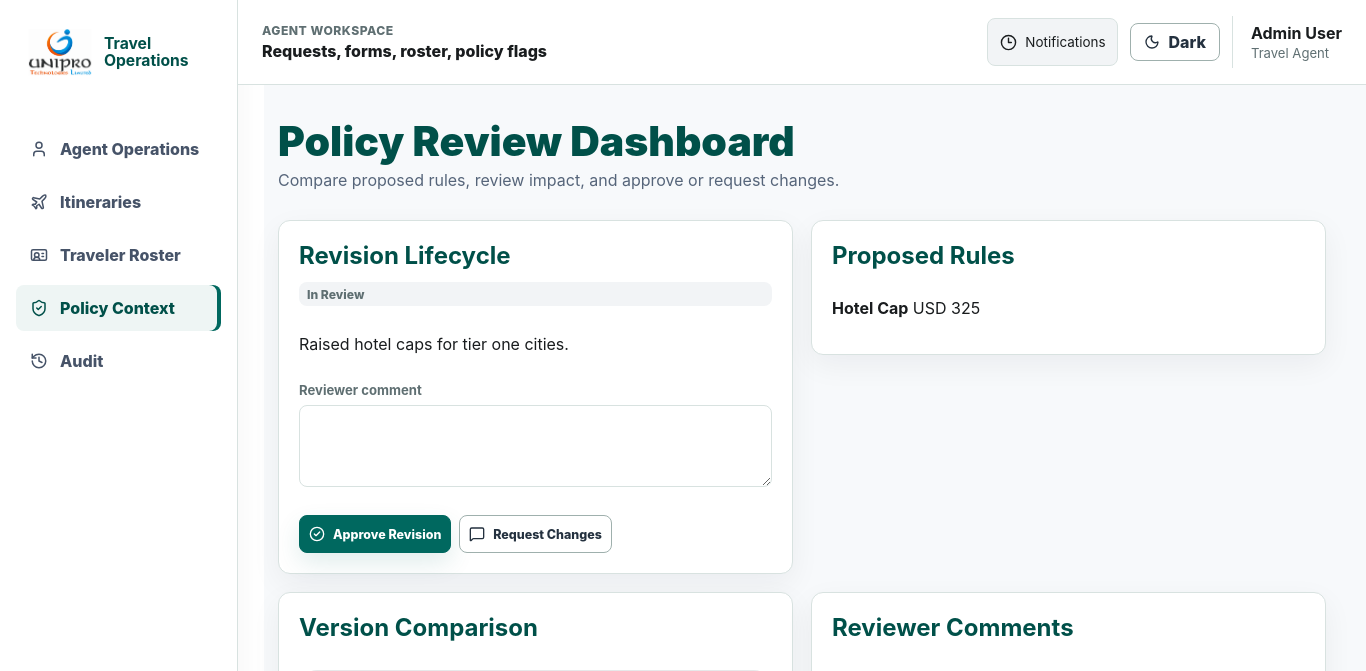
it: production command center routes › approves policy revisions from the review dashboard
Expected: the text "Raised hotel caps for tier one cities." is shown, [299,334,569,354]
Click the button "Approve Revision": click(375, 534) [299,515,451,553]
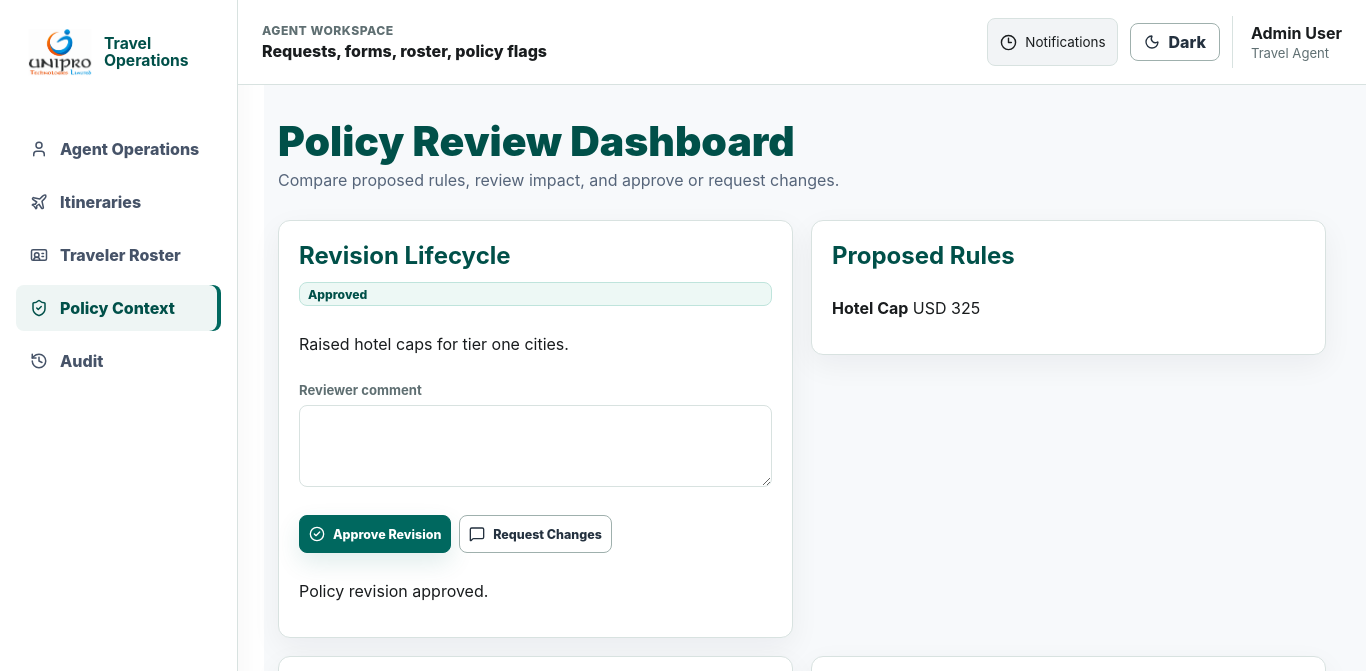
Expected: the message reads "Policy revision approved.", [299,581,488,601]
